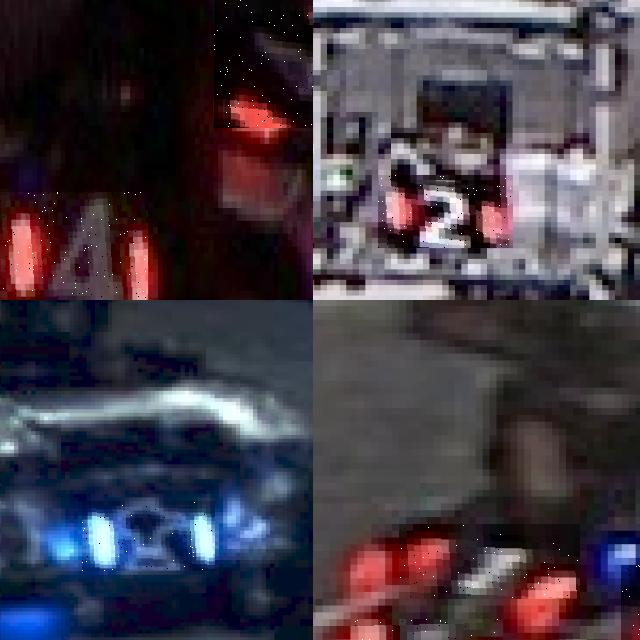Bs: (82, 501, 215, 571)
R1: (399, 524, 580, 599)
R2: (378, 175, 513, 248)
R4: (0, 192, 148, 300), (213, 0, 313, 128)
